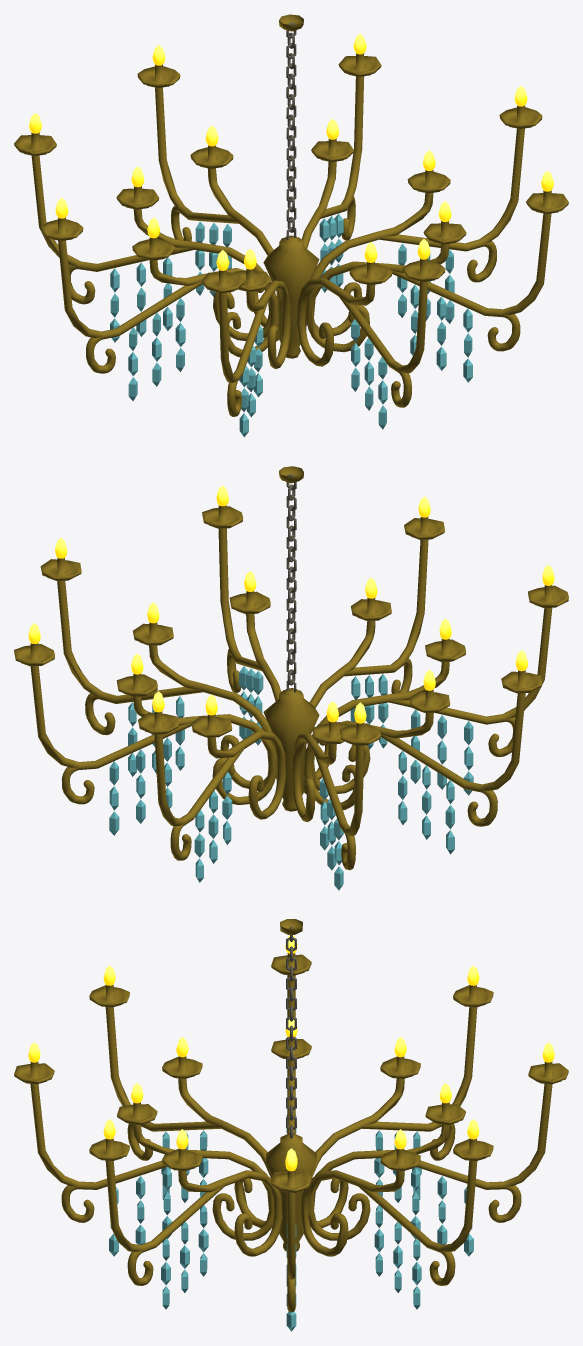
Rendered from ChandelierSeparated.fbx.
3 renders of one model, top to bottom at view 1: azimuth 30°, elevation 25°; view 2: azimuth 150°, elevation 25°; view 3: azimuth 270°, elevation 25°, orthographic. The views are drawn at different scales.
Parts seen in each view (by area): view 1: Books.002, Sphere.002; view 2: Books.002, Sphere.002; view 3: Books.002, Sphere.002.
Boxes of the visible parts, bbox=[...] form: Books.002: bbox=[14, 14, 568, 416]; Sphere.002: bbox=[110, 213, 472, 437]; Books.002: bbox=[14, 466, 568, 870]; Sphere.002: bbox=[109, 666, 473, 890]; Books.002: bbox=[14, 919, 568, 1312]; Sphere.002: bbox=[109, 1114, 473, 1331].
Bounding box in the file's own units: 261 × 173 × 261.
1 material, 1 textured.
